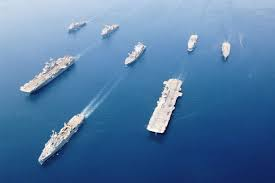Ship: (38, 113, 85, 164), (20, 56, 75, 94), (147, 78, 182, 133), (125, 43, 145, 65), (101, 24, 119, 36), (68, 21, 85, 32), (187, 35, 197, 52), (222, 42, 231, 60)
